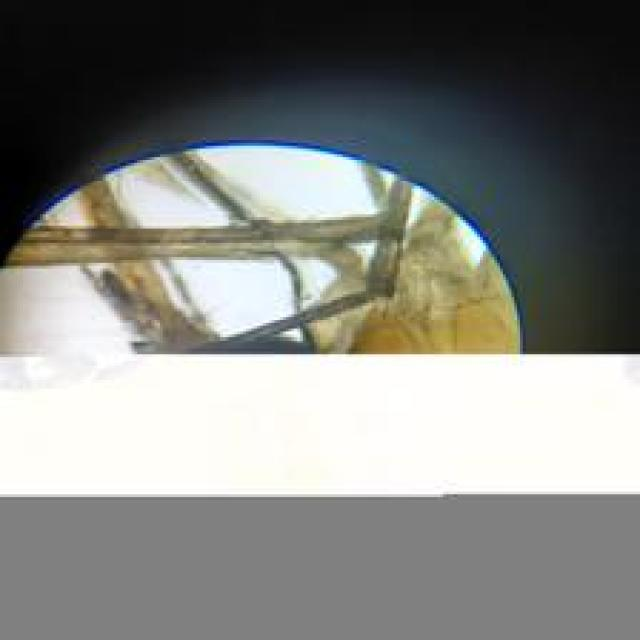Culex: (2, 137, 524, 357)
